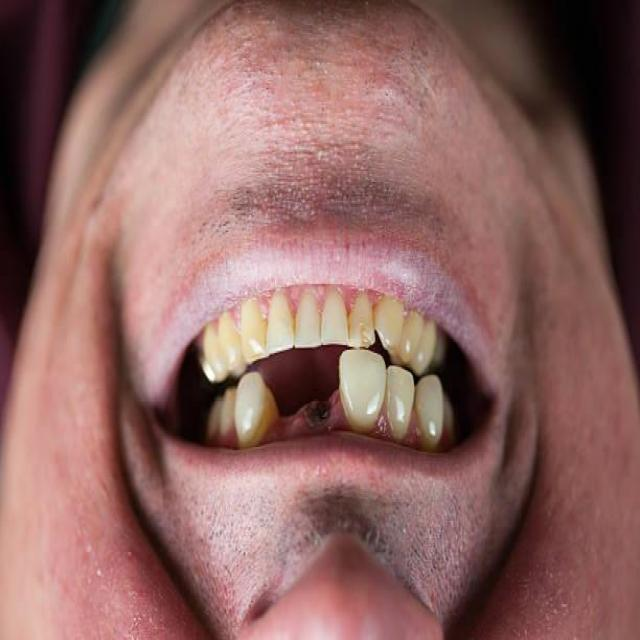caries: (301, 384, 337, 431)
